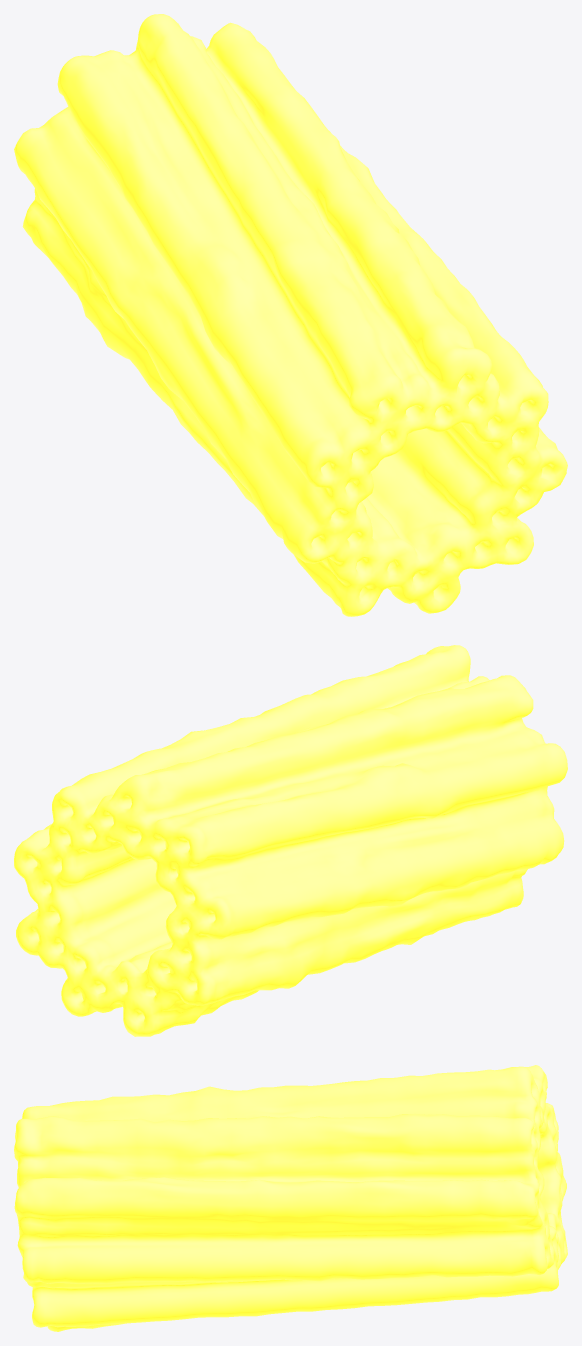
File: centriole02.fbx
3 views of the same model, one above another, from view 1: azimuth 30°, elevation 25°; view 2: azimuth 150°, elevation 25°; view 3: azimuth 270°, elevation 25° (orthographic). The views are drawn at different scales.
Visible parts, largest first — view 1: Centrioles_02; view 2: Centrioles_02; view 3: Centrioles_02.
Boxes of the visible parts, bbox=[...] form: Centrioles_02: bbox=[14, 14, 567, 616]; Centrioles_02: bbox=[14, 645, 567, 1036]; Centrioles_02: bbox=[14, 1065, 567, 1331].
Bounding box in the file's own units: 166 × 185 × 340.
